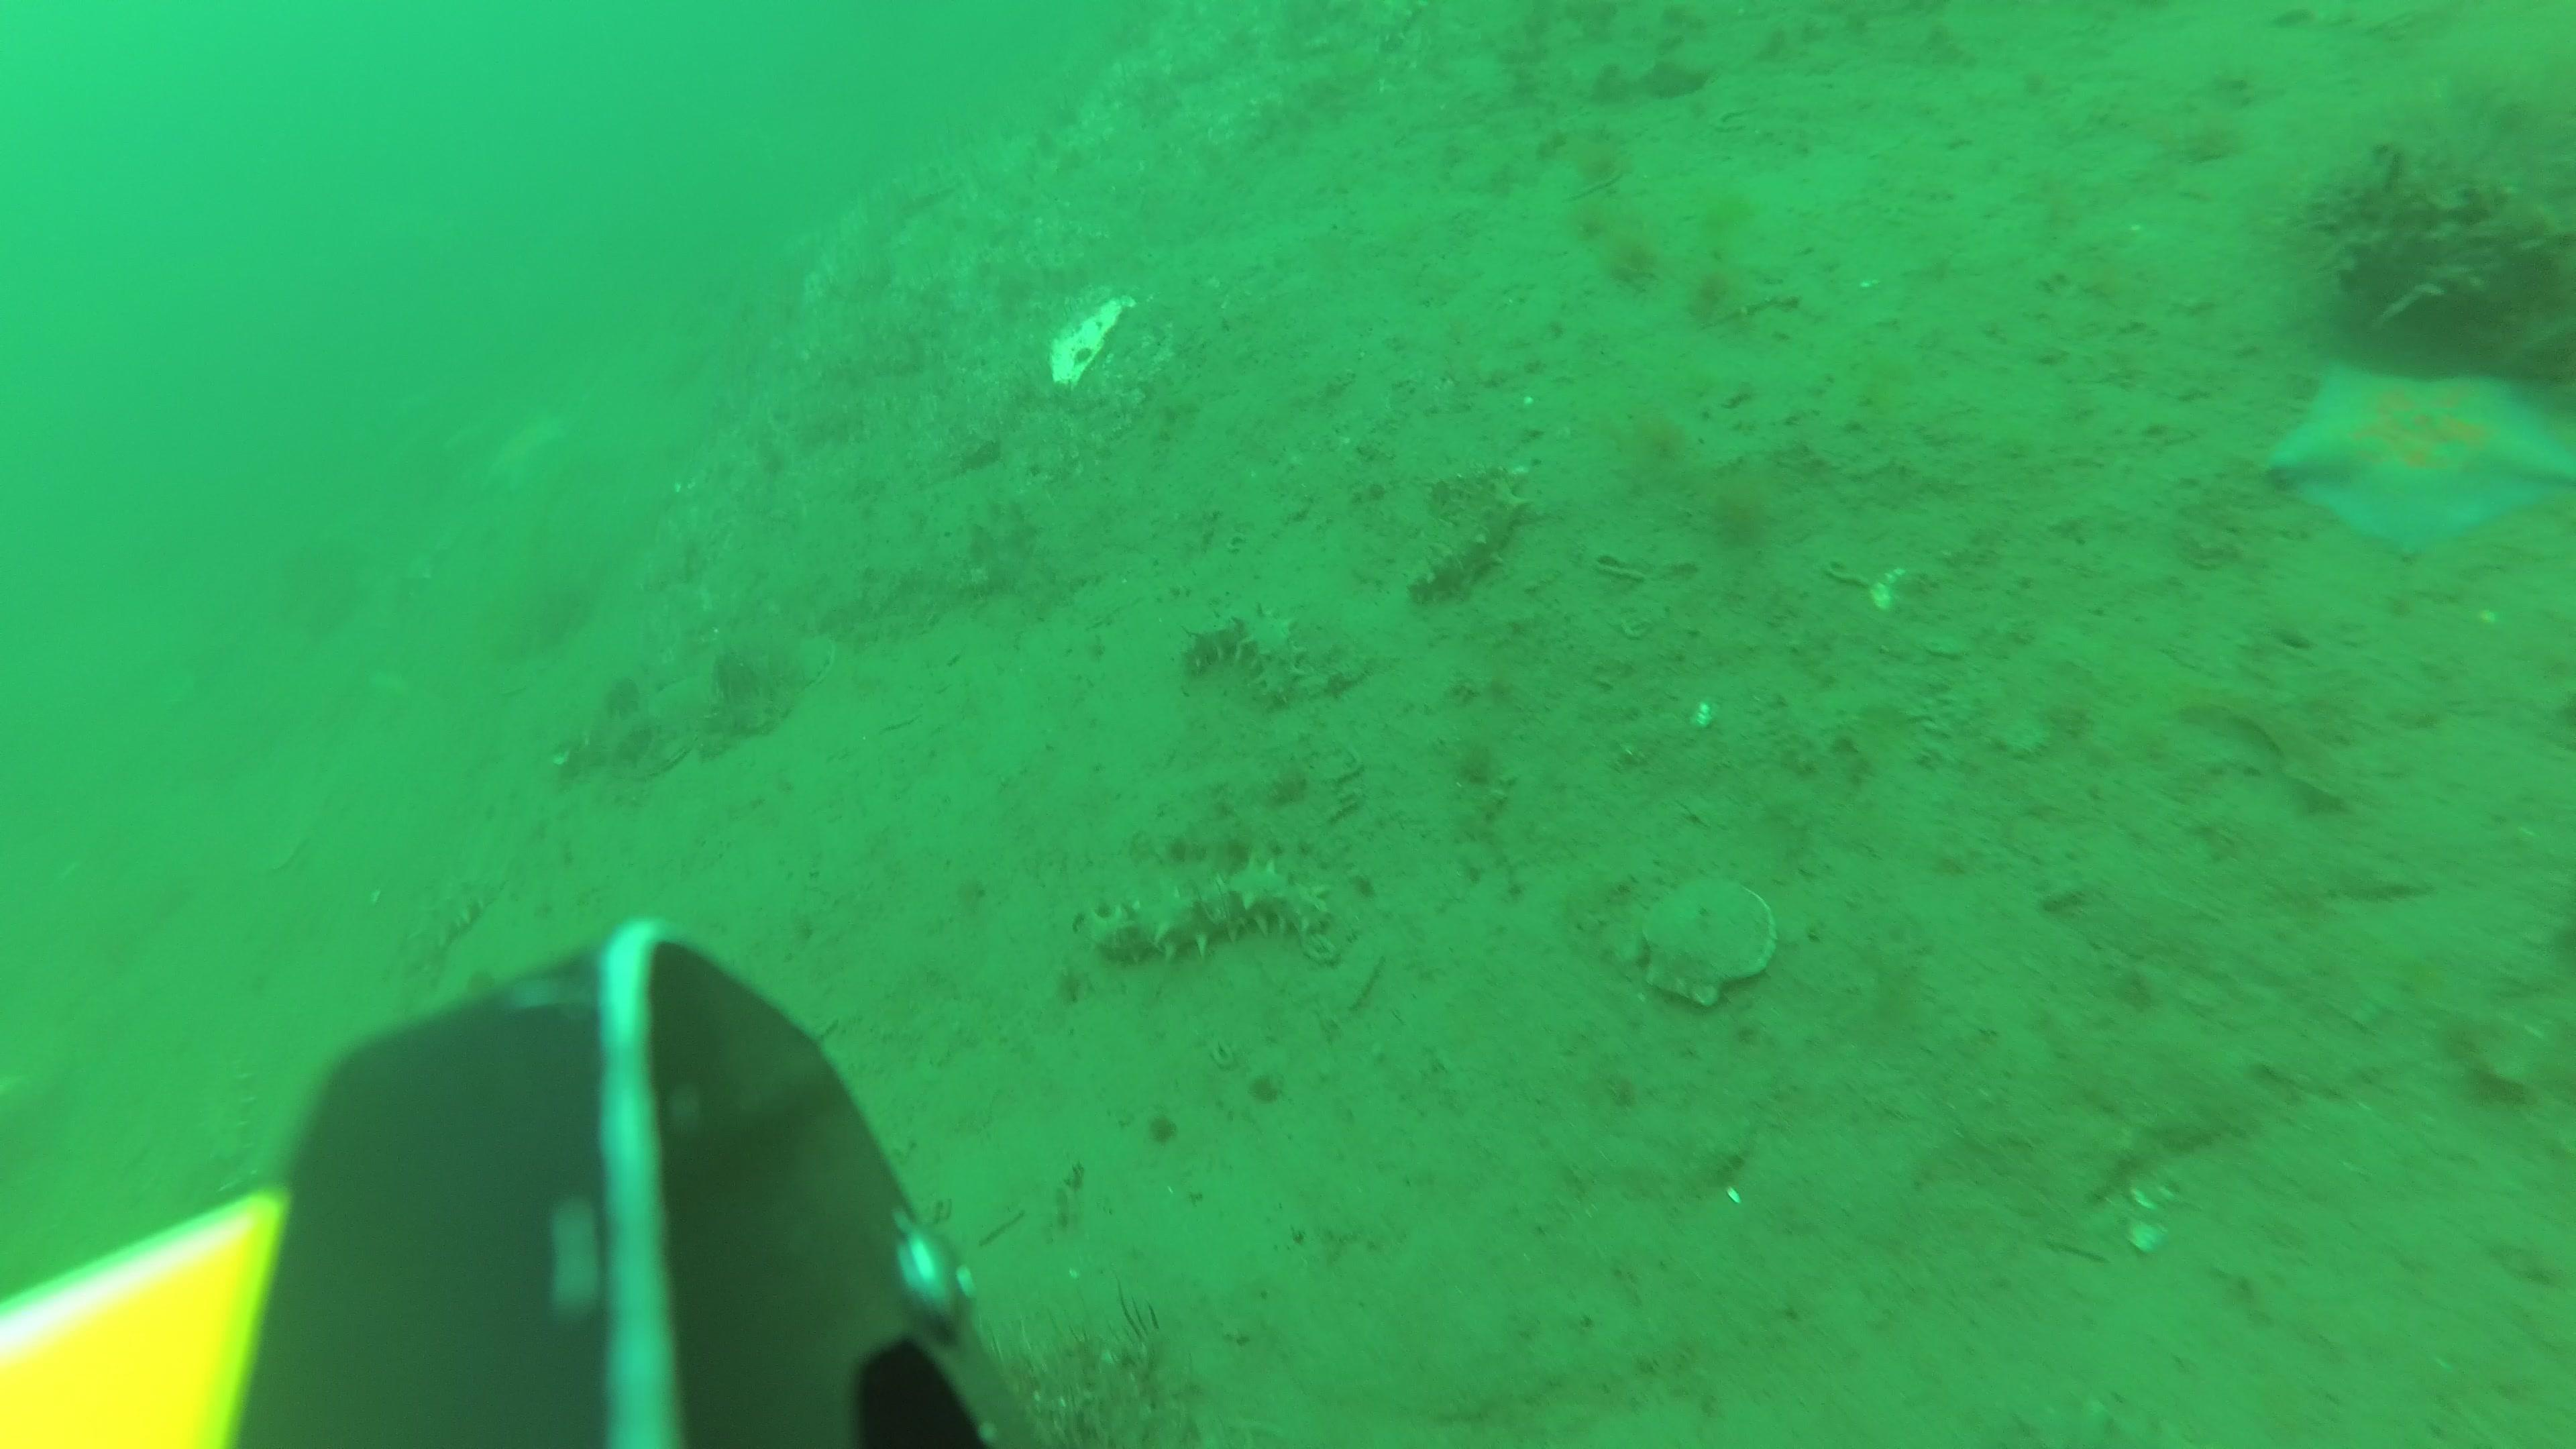holothurian: (1086, 855, 1332, 966), (1407, 464, 1530, 609), (389, 872, 511, 1005), (1191, 609, 1302, 706), (200, 1047, 255, 1214)
scallop: (1644, 878, 1778, 1007)
starfish: (2268, 361, 2576, 561)
